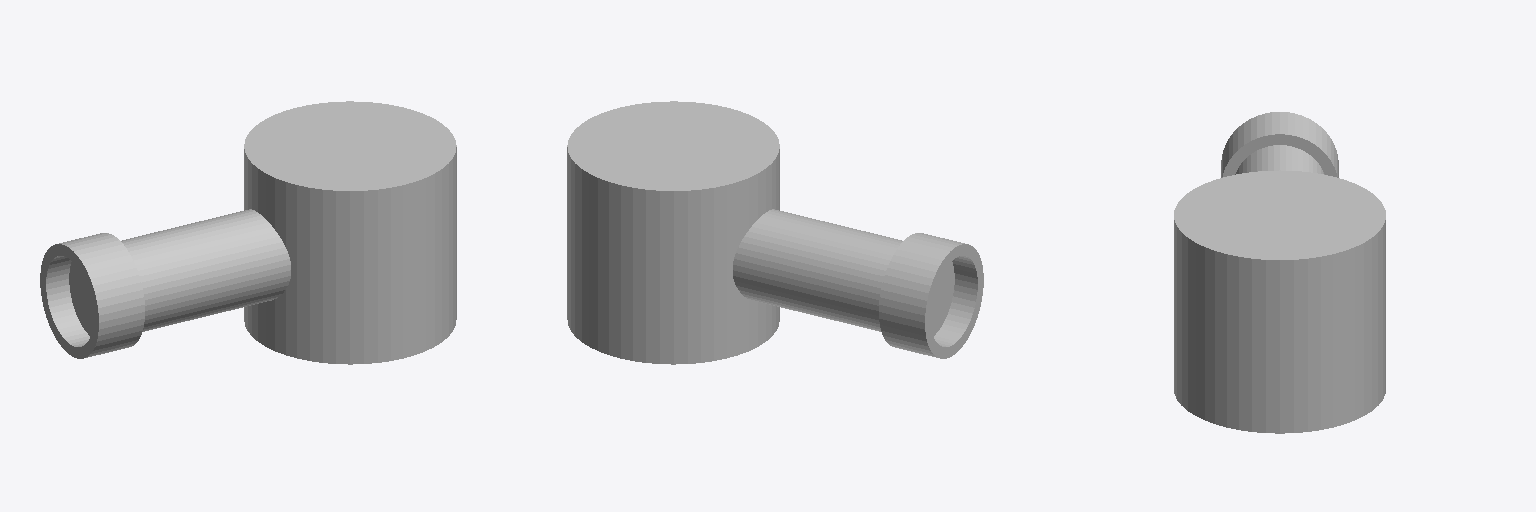
The model's file is turret.obj.
The picture shows the model from 3 angles: view 1: azimuth 30°, elevation 25°; view 2: azimuth 150°, elevation 25°; view 3: azimuth 270°, elevation 25°; orthographic projection.
Visible parts, largest first — view 1: obj_0, obj_1, obj_2; view 2: obj_0, obj_1, obj_2; view 3: obj_0, obj_2, obj_1.
Boxes of the visible parts, box(x1,y1,x2,y2) form: obj_0: box(244, 101, 456, 364); obj_1: box(121, 209, 290, 331); obj_2: box(40, 233, 144, 358); obj_0: box(567, 101, 779, 364); obj_1: box(733, 209, 902, 331); obj_2: box(879, 233, 983, 358); obj_0: box(1174, 170, 1385, 433); obj_2: box(1221, 112, 1338, 177); obj_1: box(1235, 145, 1324, 174).
Bounding box in the file's own units: 20.25 × 9 × 10.